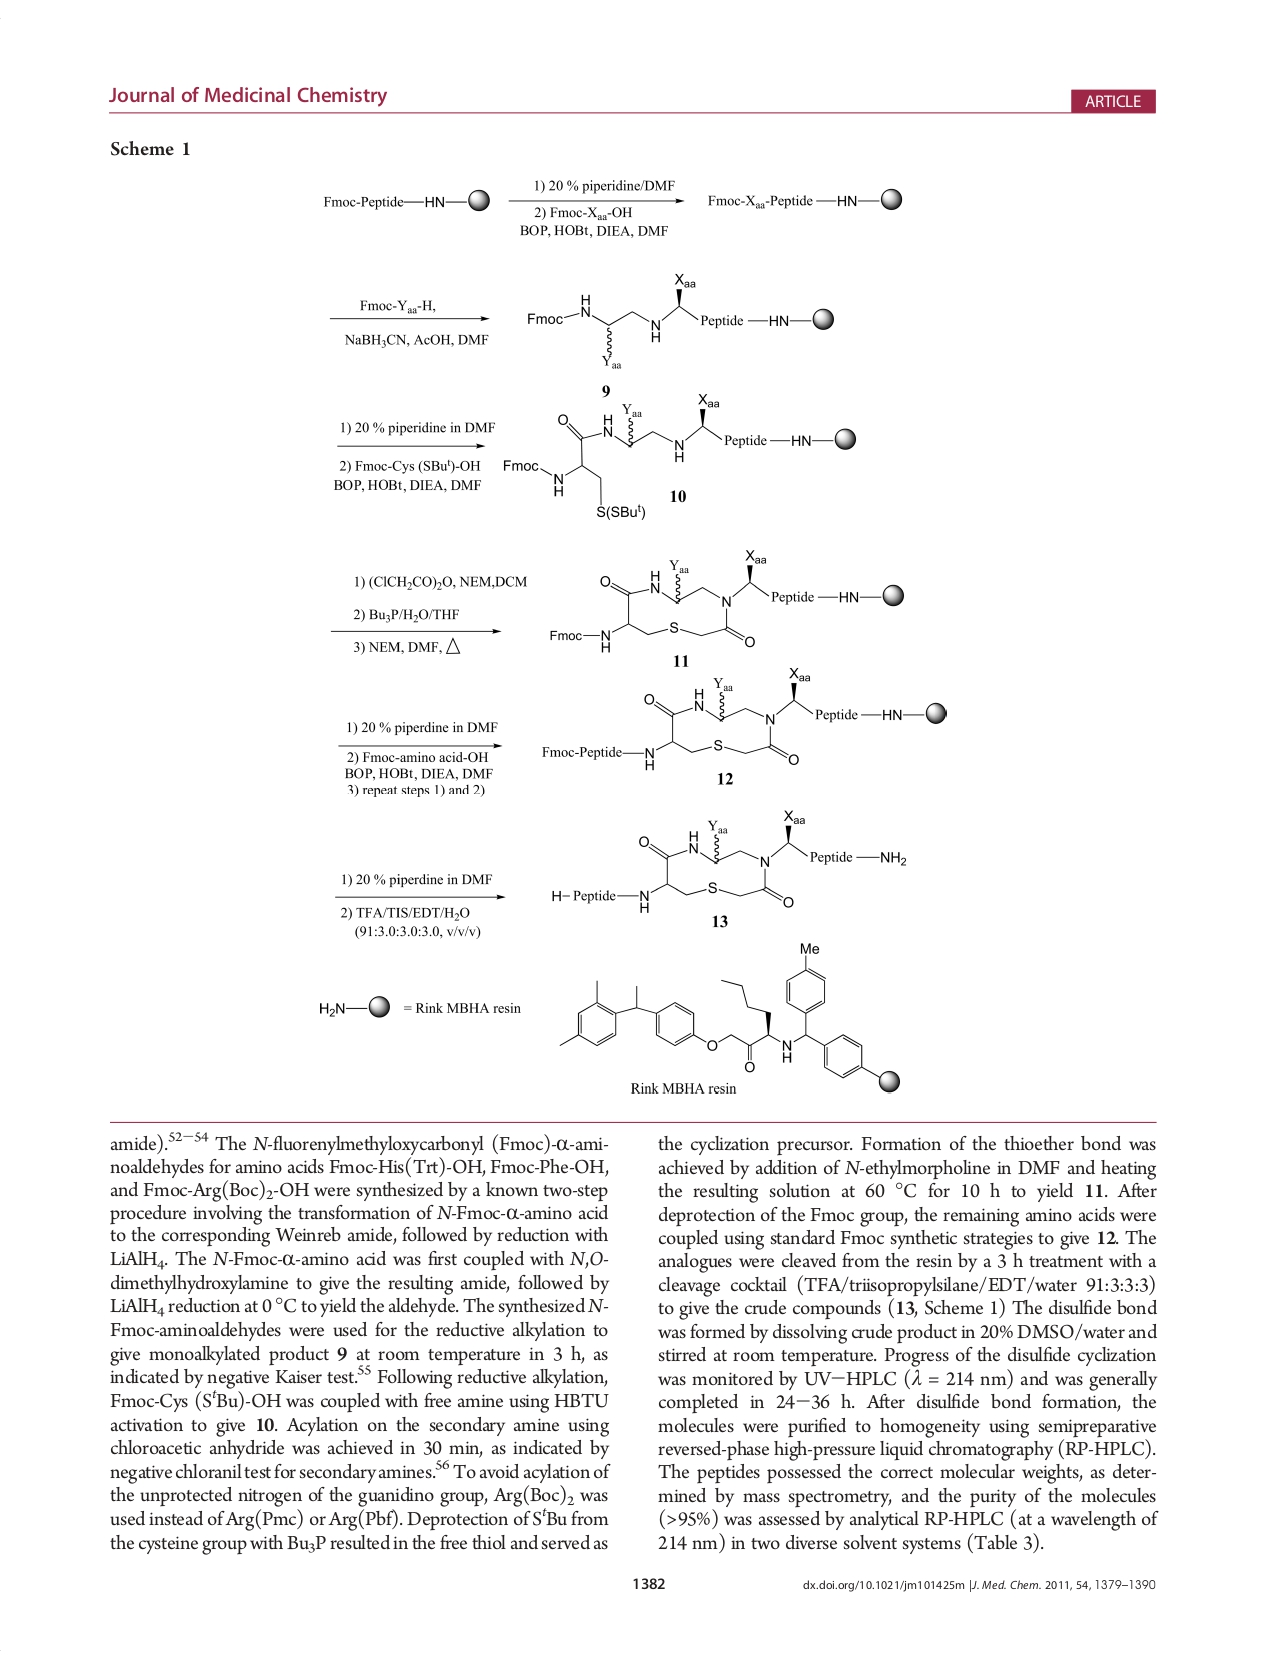exist_molecular: (556, 942, 902, 1094), (501, 392, 859, 523), (540, 664, 949, 770), (547, 809, 910, 914), (547, 548, 907, 653), (524, 271, 836, 368), (319, 180, 497, 223), (699, 186, 908, 217)
